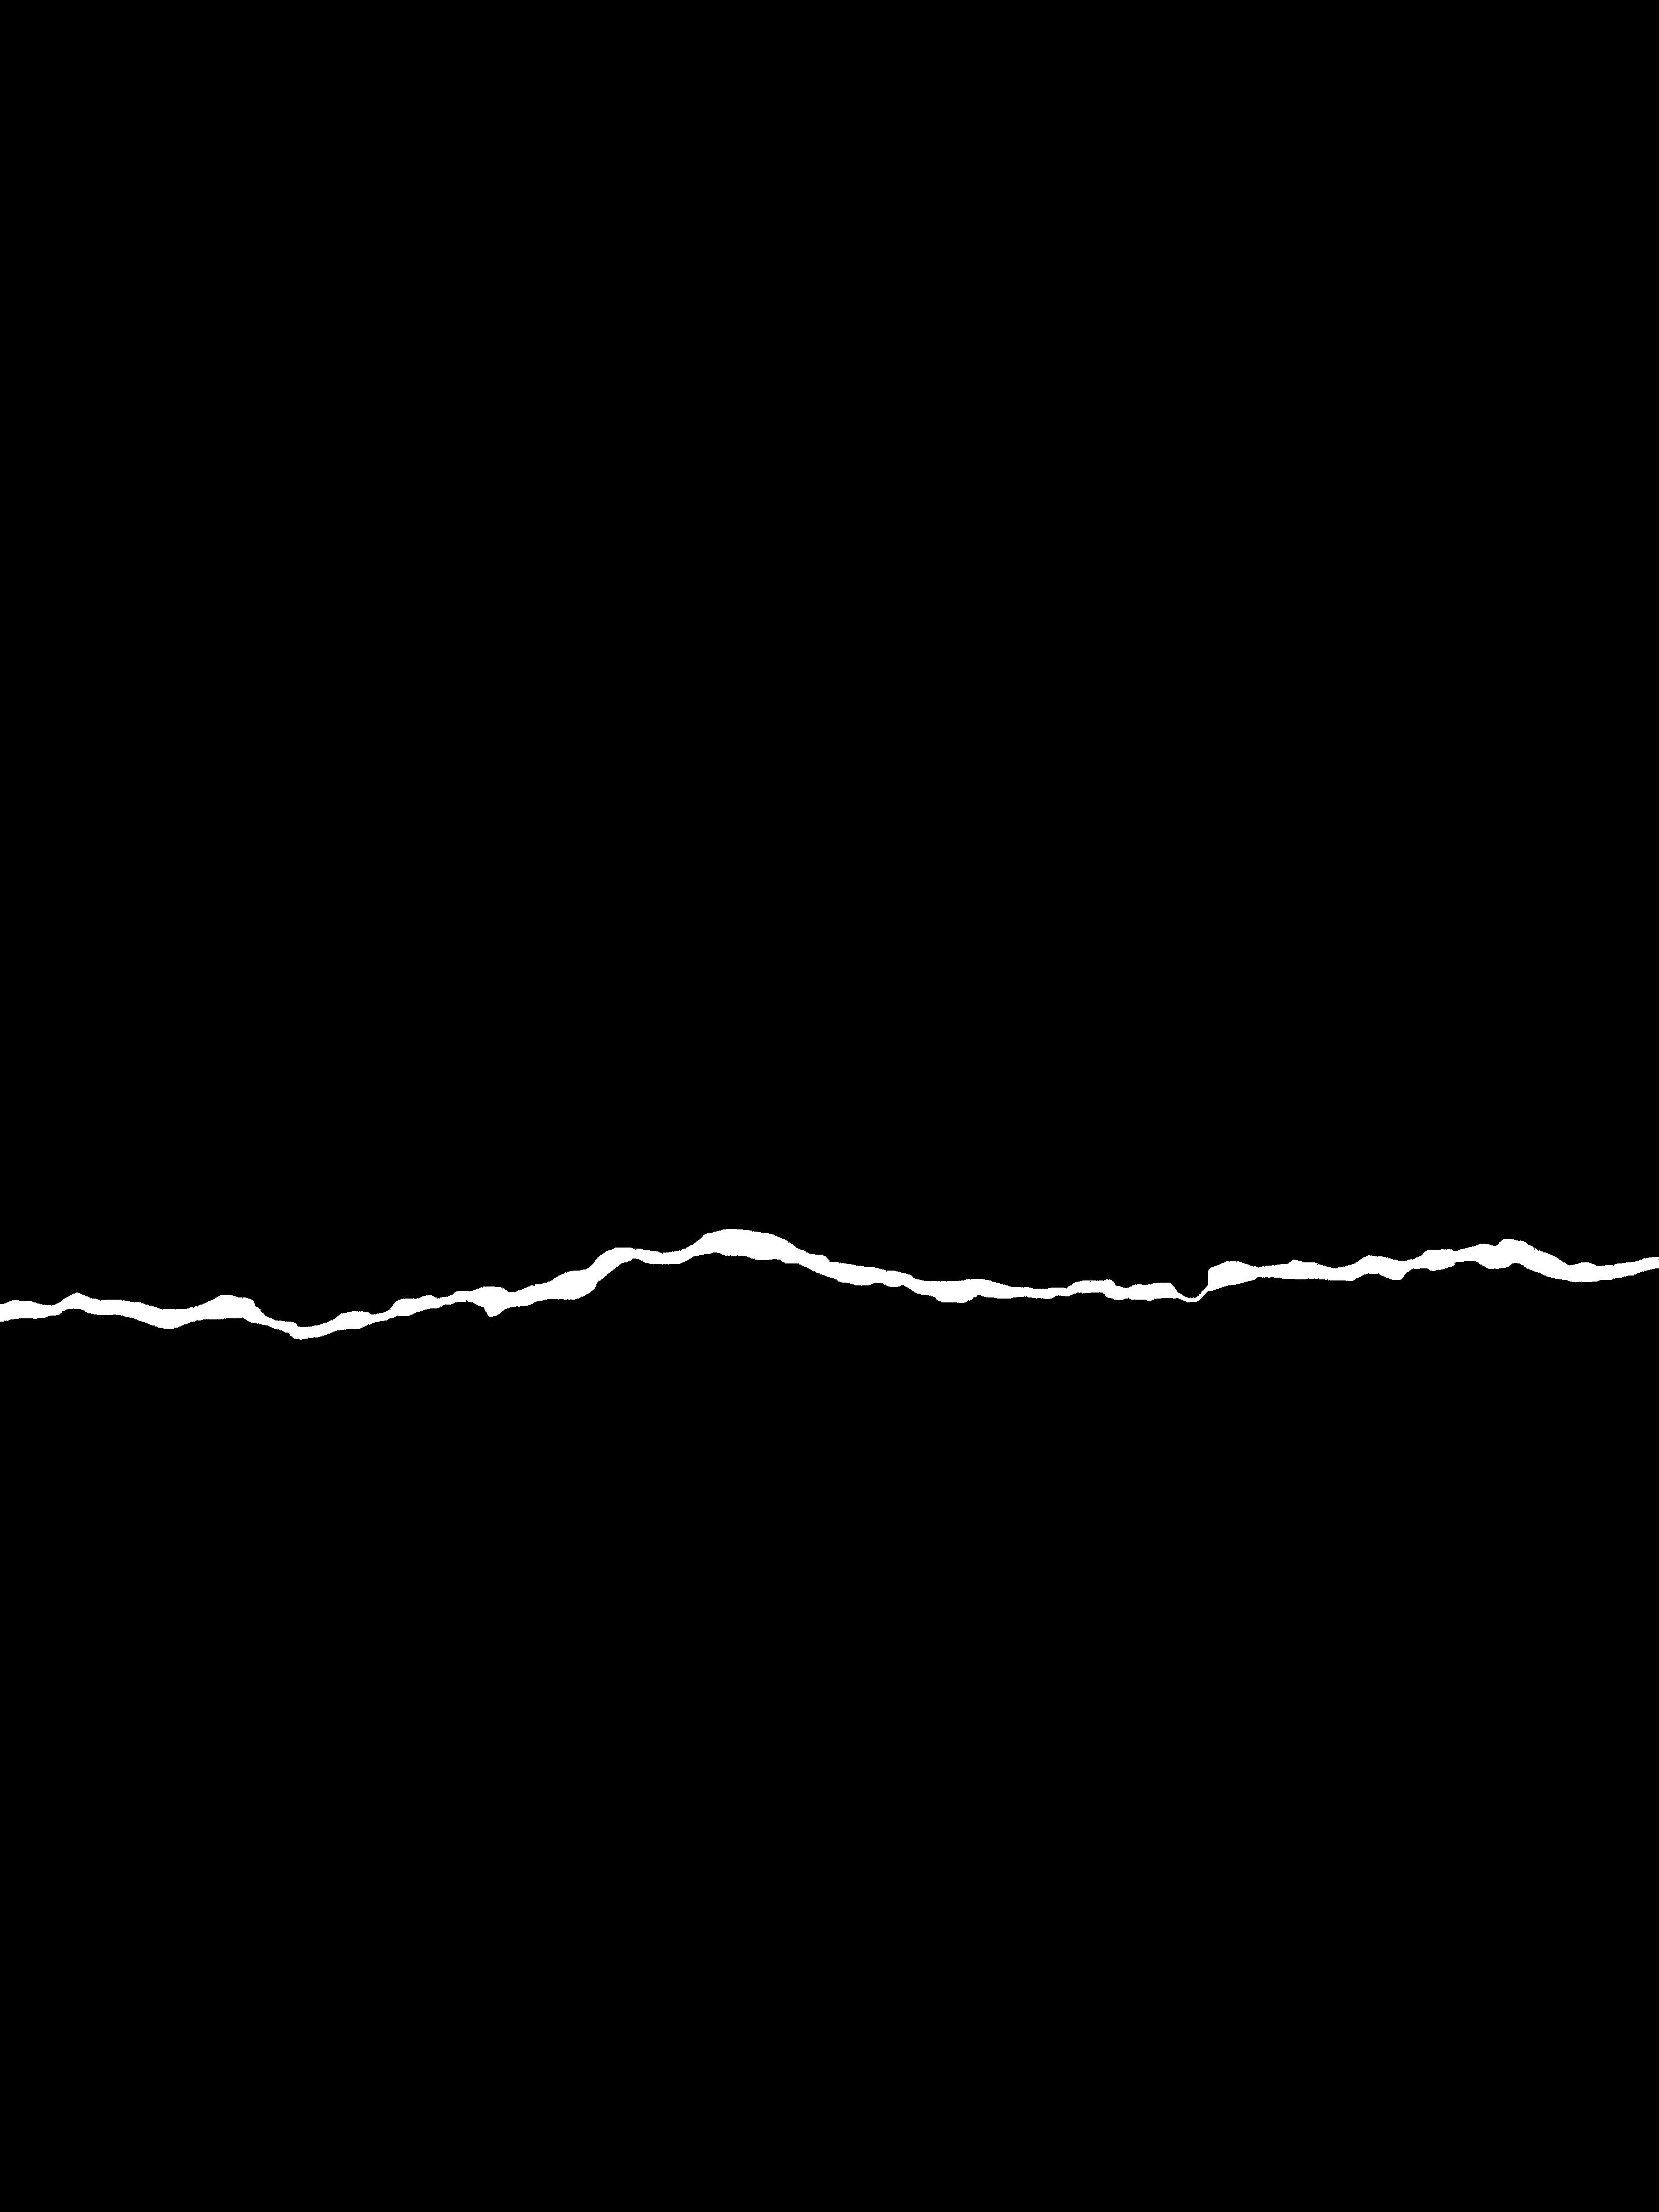Crack: (0, 1207, 1659, 1367)
